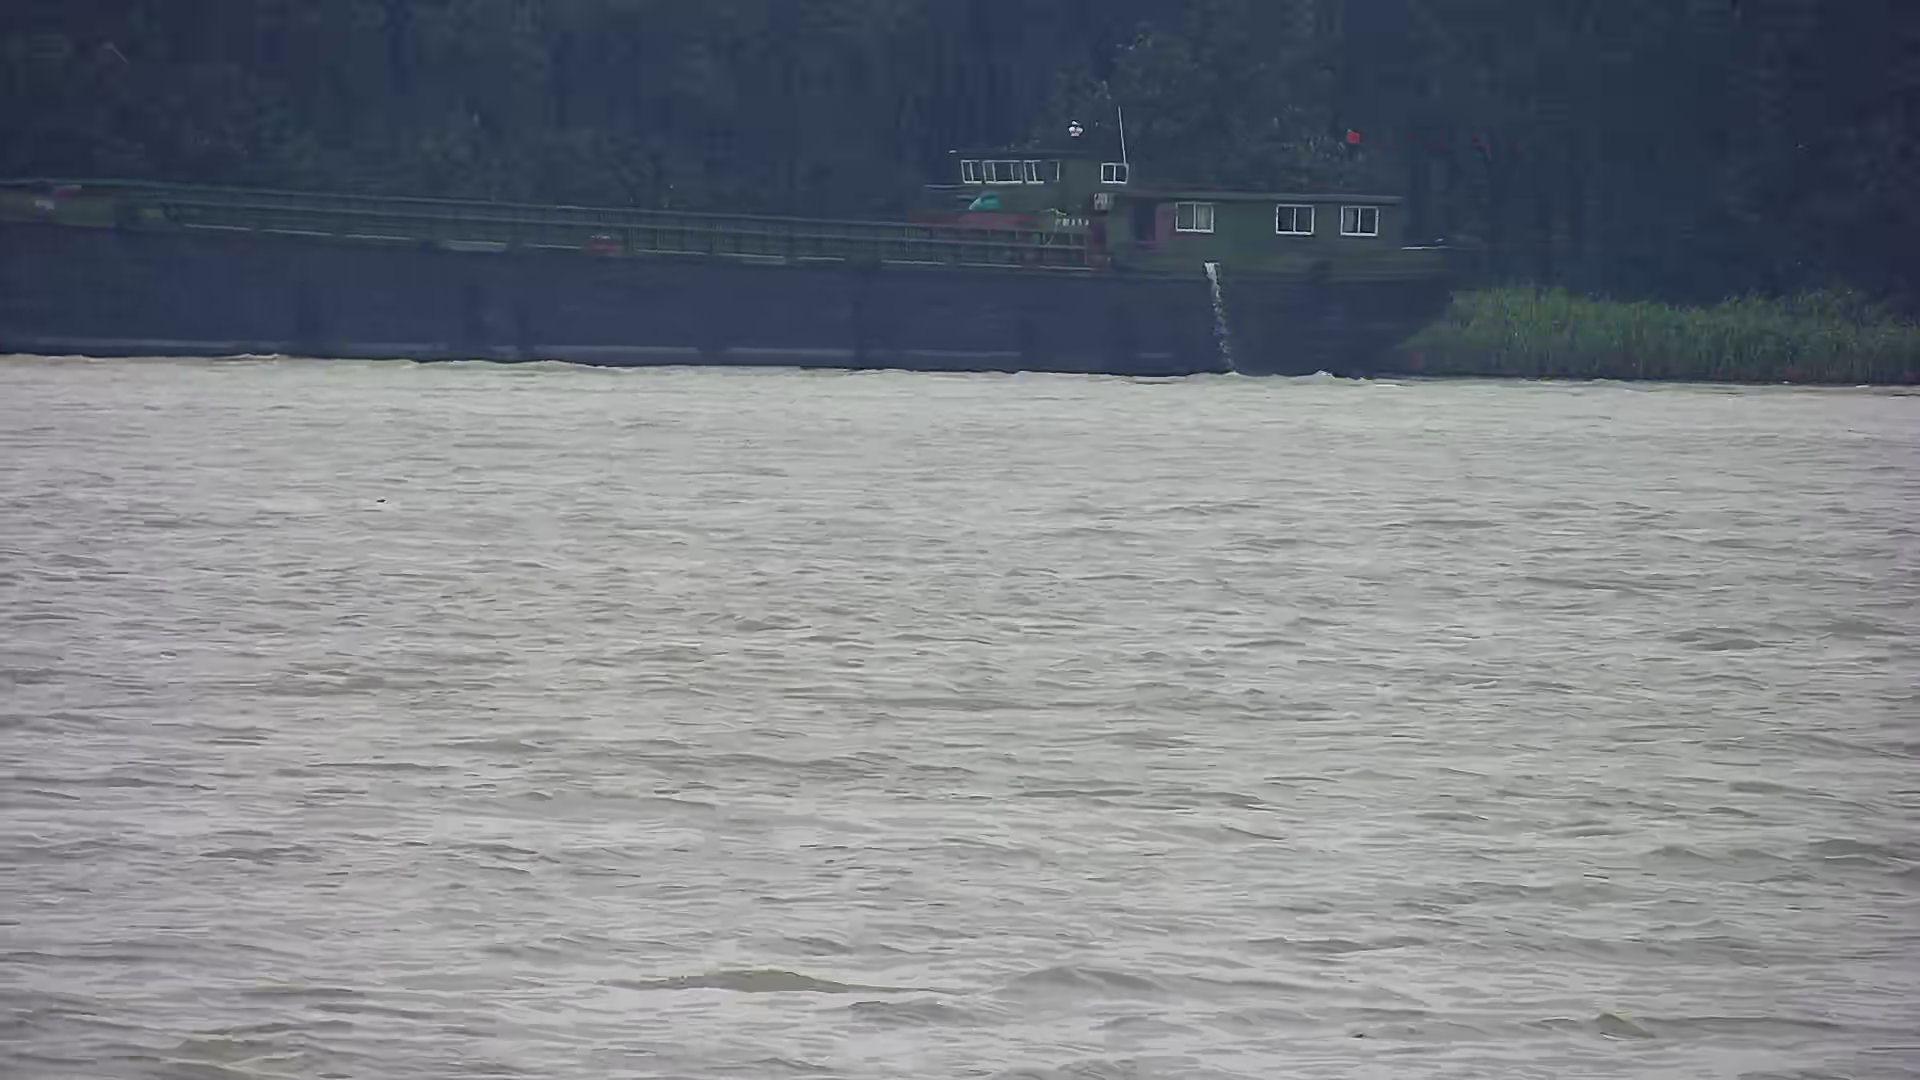ship: (1, 105, 1455, 402)
